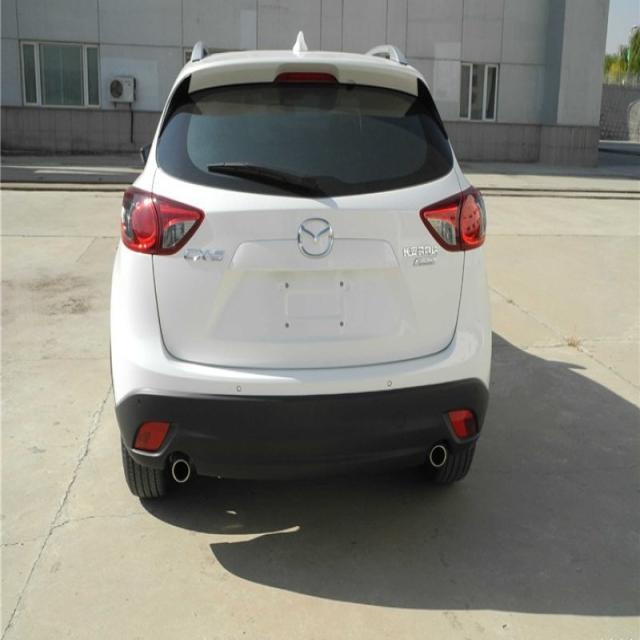back_glass: (155, 75, 453, 198)
back_left_side_light: (118, 178, 208, 264)
back_right_side_light: (418, 184, 488, 252)
rear_bumper: (110, 309, 489, 473)
